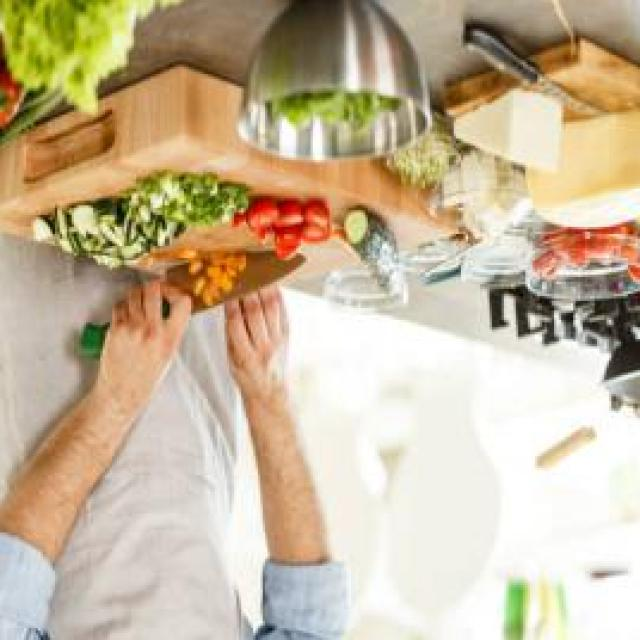knife: (81, 242, 311, 363), (462, 21, 616, 122)
